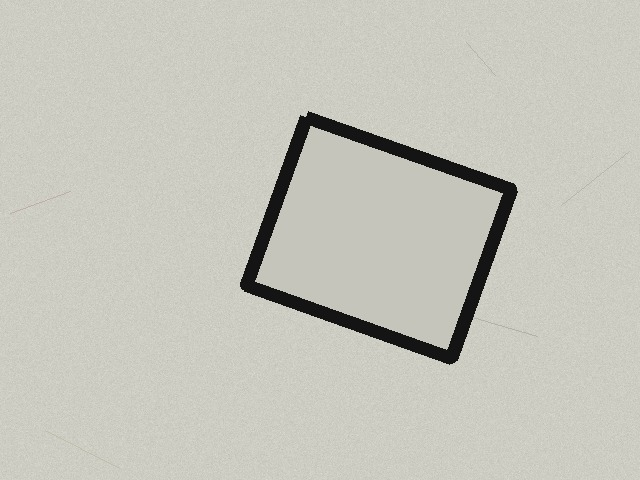parking_area: (246, 117, 511, 358)
